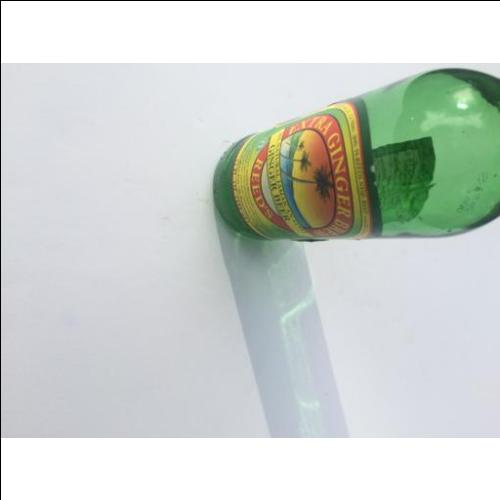glass: (215, 68, 499, 244)
